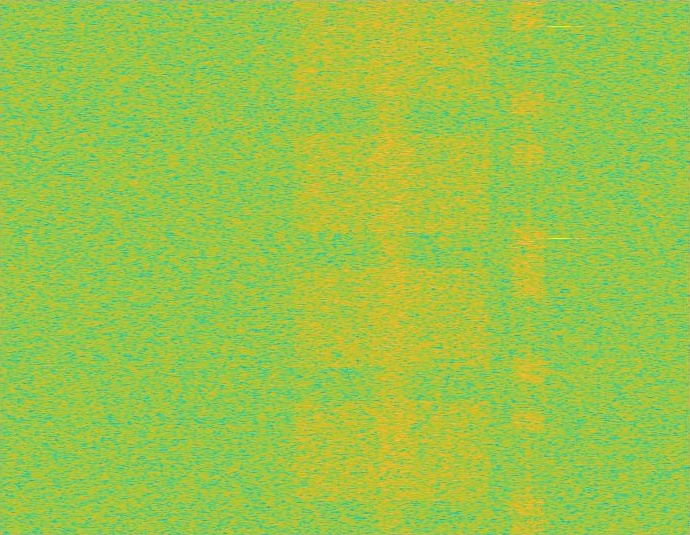5G: (288, 0, 495, 534)
DSSS: (369, 0, 415, 534), (526, 0, 531, 534)
LTE: (511, 0, 546, 534)
Radar: (553, 0, 567, 534)
